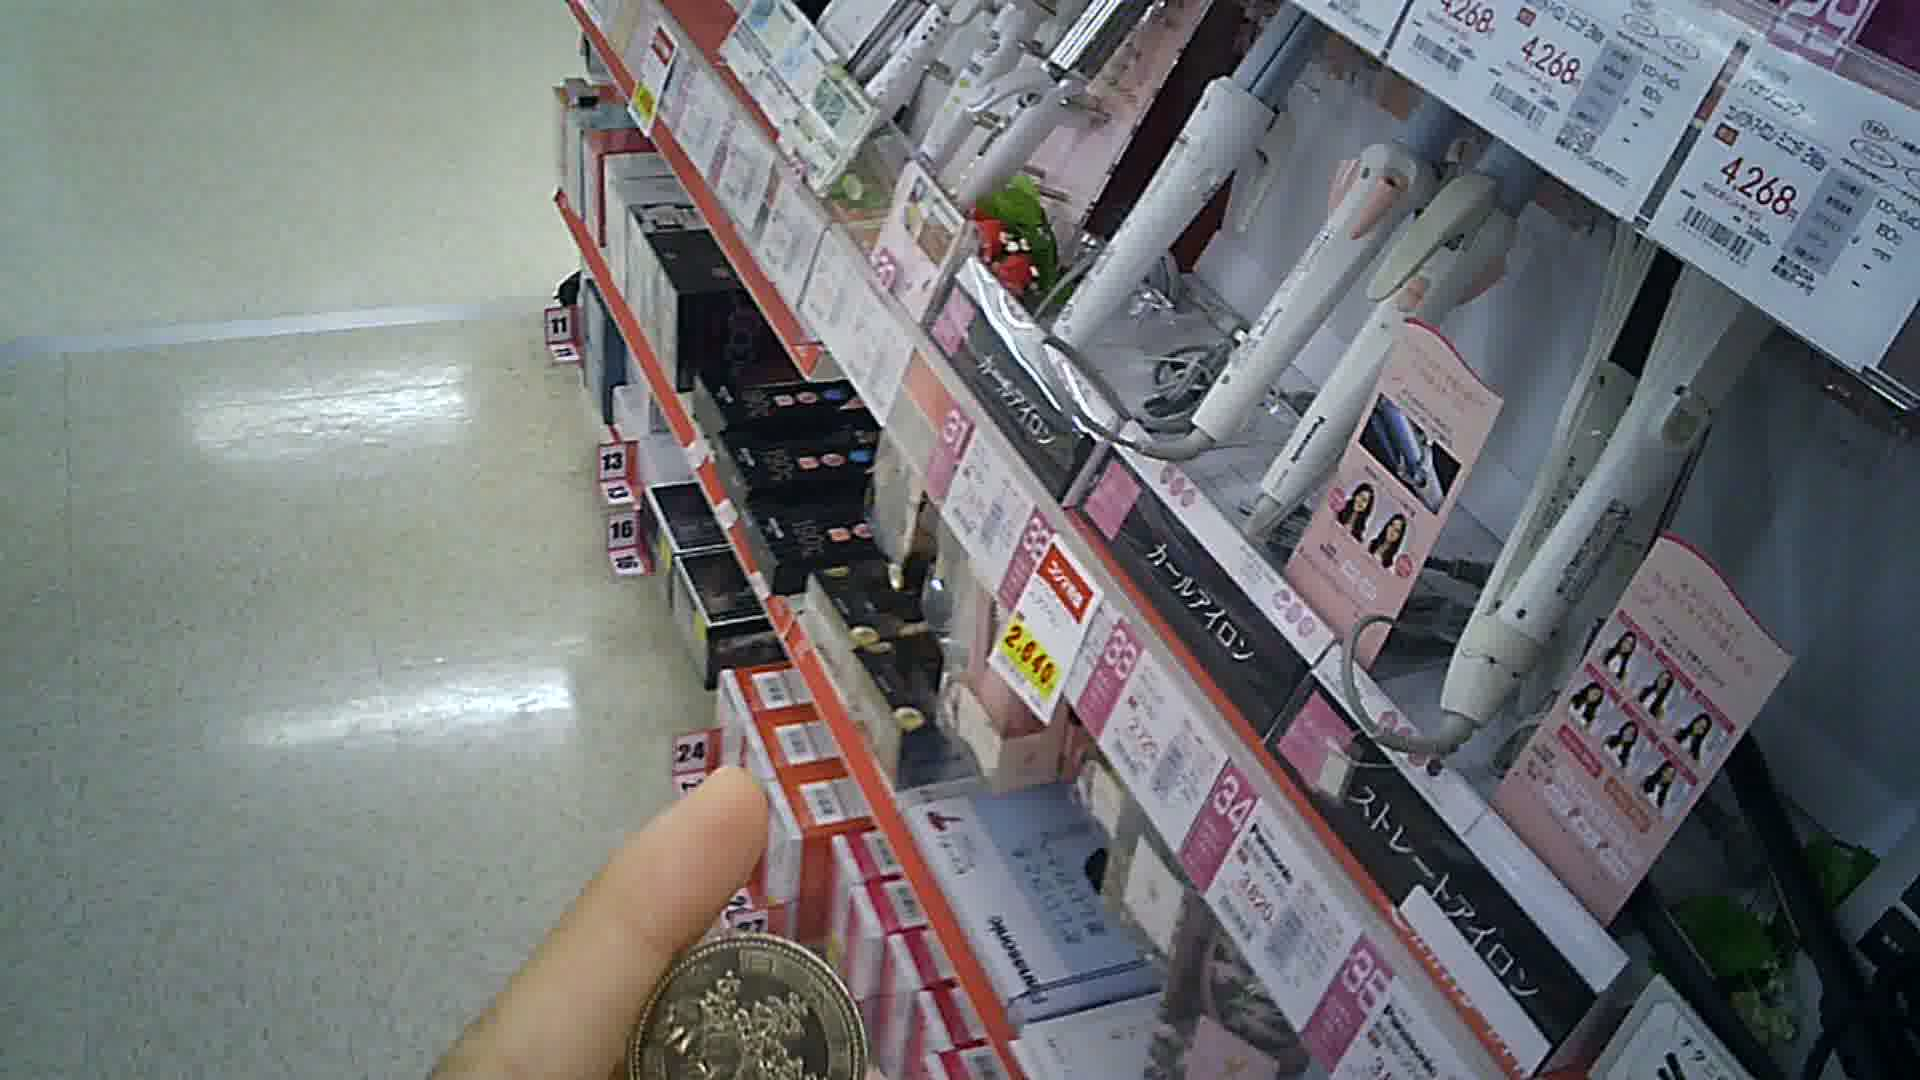500 Yen: (612, 931, 878, 1079)
